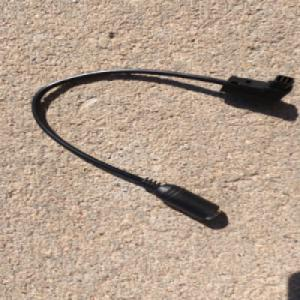Wire: (29, 67, 296, 221)
